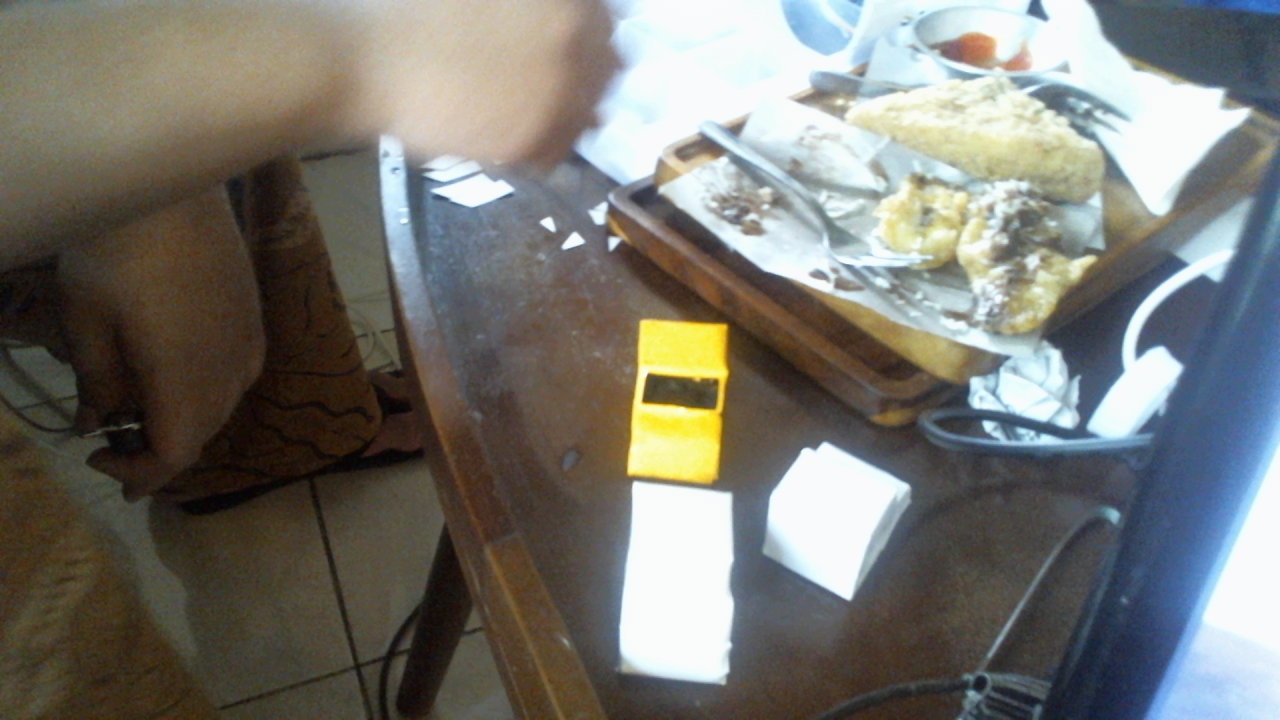Kijang Kapsul: (586, 294, 778, 499)
